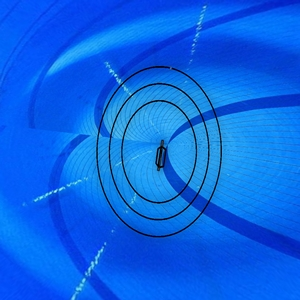circle: (95, 63, 225, 240)
submarine: (150, 134, 168, 173)
